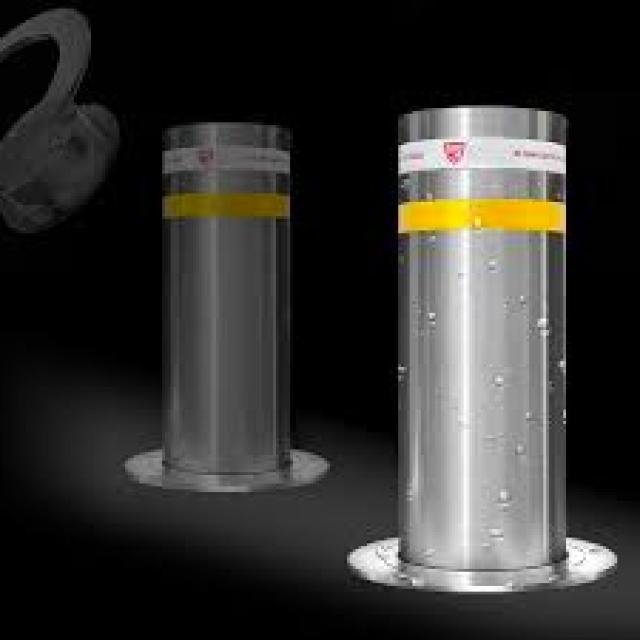bollard: (322, 96, 616, 588), (113, 79, 339, 498)
